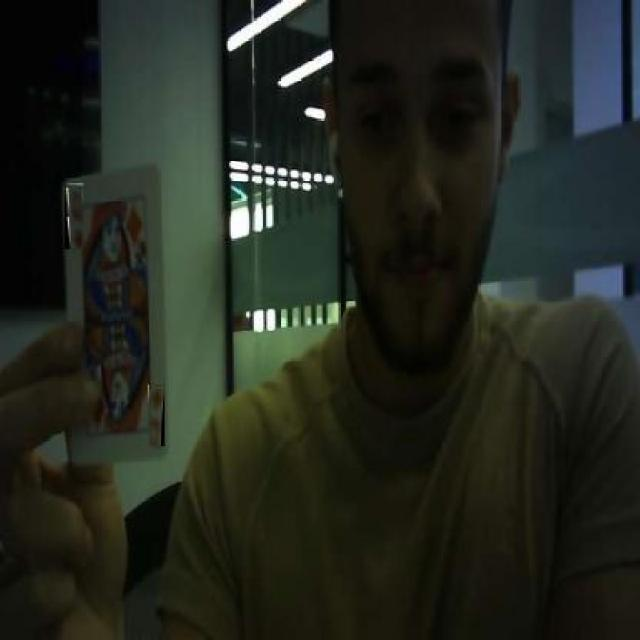QD: (65, 183, 83, 249), (148, 385, 164, 446)
